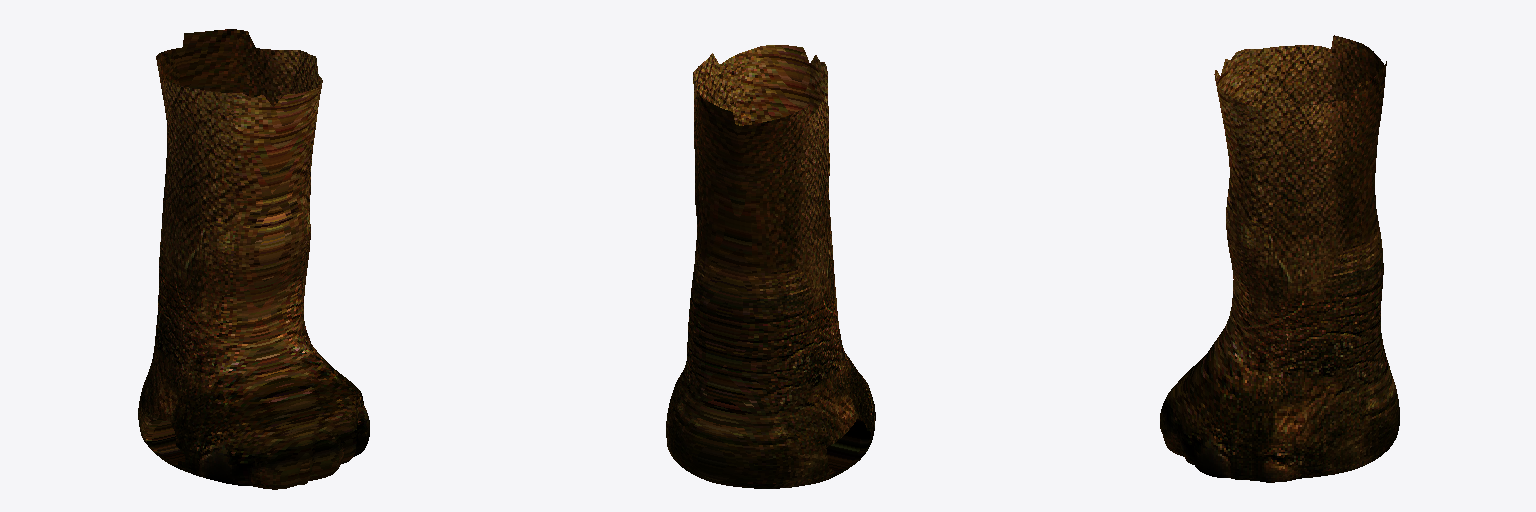
3 views of the same model, side by side, from view 1: azimuth 30°, elevation 25°; view 2: azimuth 150°, elevation 25°; view 3: azimuth 270°, elevation 25° (orthographic).
Visible parts, largest first — view 1: ele_lower_front_left; view 2: ele_lower_front_left; view 3: ele_lower_front_left.
Part boxes in pixels (x1,y1,x2,y2): ele_lower_front_left: (138,29,369,489); ele_lower_front_left: (666,45,875,488); ele_lower_front_left: (1160,35,1399,482).
Size of the model in its own units: 1061 by 2124 by 1230.
1 materials, 1 textured.